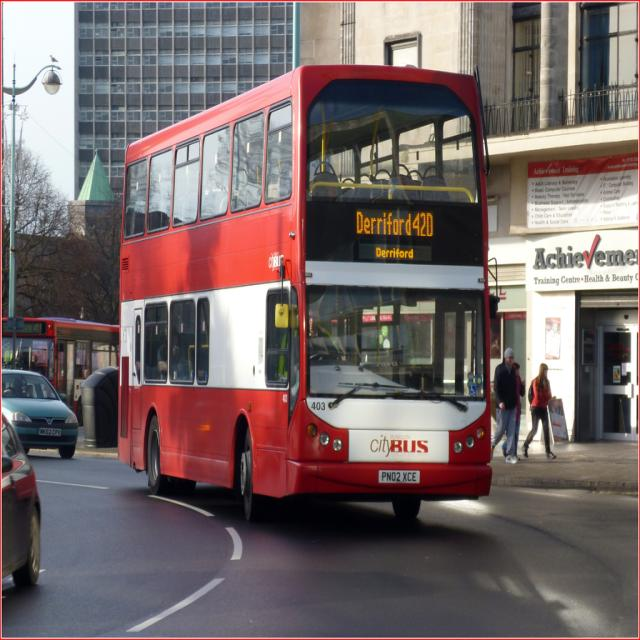Buses: (120, 64, 492, 532)
Passenger Car: (1, 414, 43, 595), (1, 368, 78, 463)
Pedestrians: (526, 359, 561, 462), (494, 345, 523, 467)
